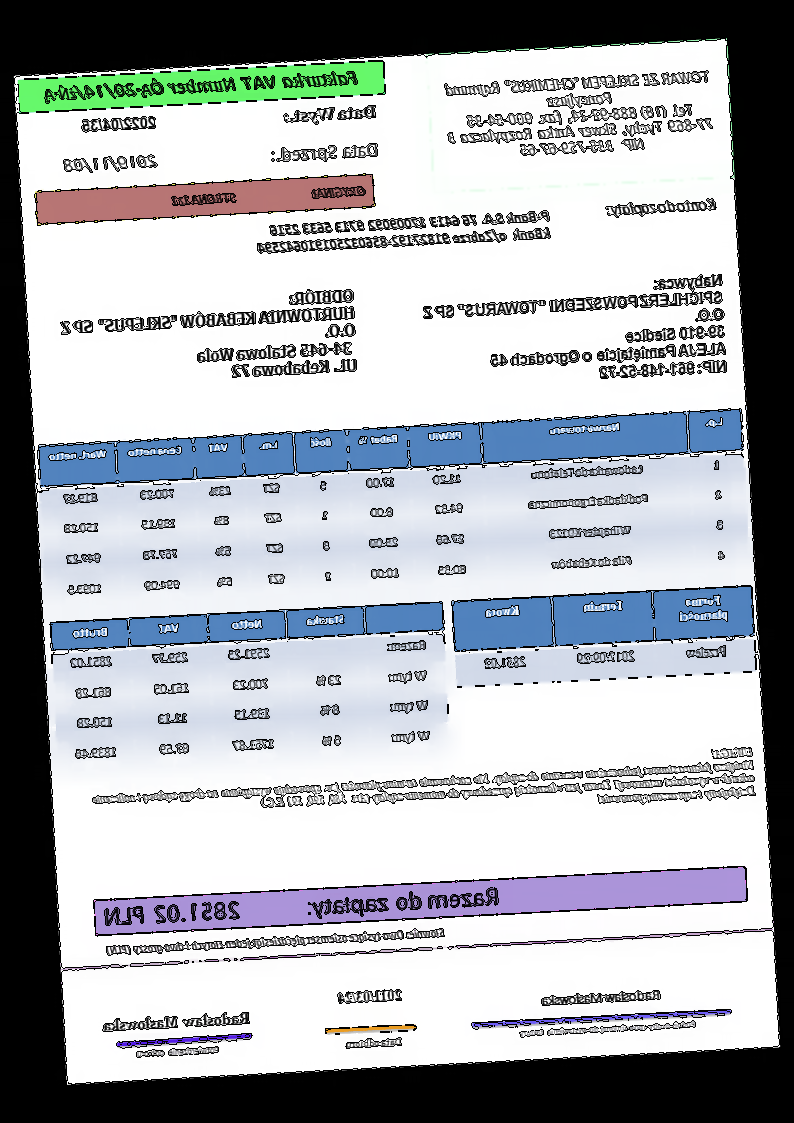Table: (37, 405, 752, 609), (49, 598, 454, 774), (452, 585, 757, 688)
TextBox: (87, 742, 756, 835), (418, 269, 731, 392), (55, 285, 362, 390), (440, 63, 720, 165), (102, 883, 502, 932), (251, 206, 555, 259), (40, 66, 363, 107), (102, 923, 448, 960), (167, 181, 371, 212), (515, 1015, 698, 1041), (102, 1008, 254, 1036), (603, 192, 721, 221), (267, 139, 382, 168), (538, 985, 664, 1008), (59, 150, 161, 177), (279, 101, 380, 128), (80, 111, 160, 135), (334, 985, 408, 1008), (133, 1043, 221, 1062), (343, 1033, 405, 1052)
